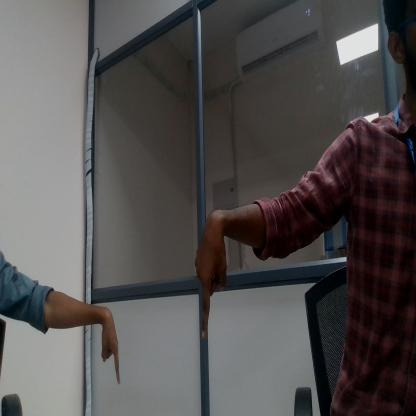Down: (191, 222, 229, 333), (93, 306, 129, 379)
